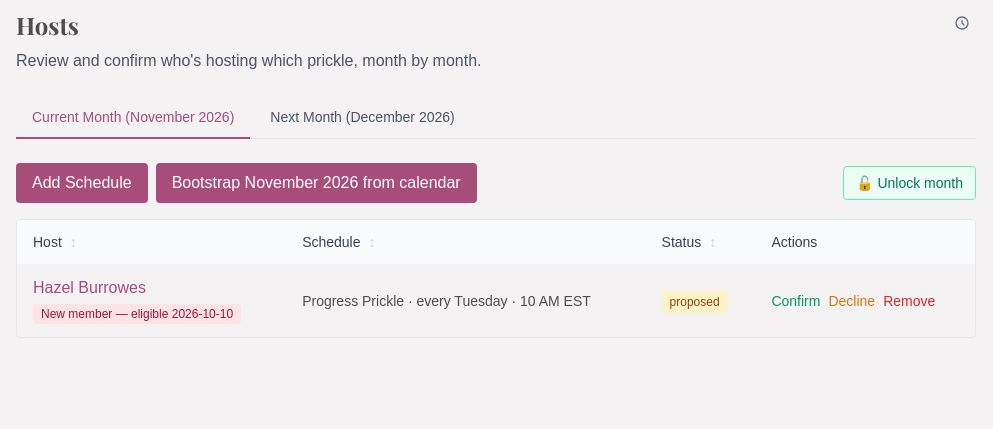
it: HostsClient bootstrap from calendar › shows the preview error and never asks to confirm when the dry run fails
expect the link "Hazel Burrowes" is shown: met, box [33,279,146,296]
Click the button "Bootstrap November 2026 from calendar" at (316, 183), box [156,163,477,203]
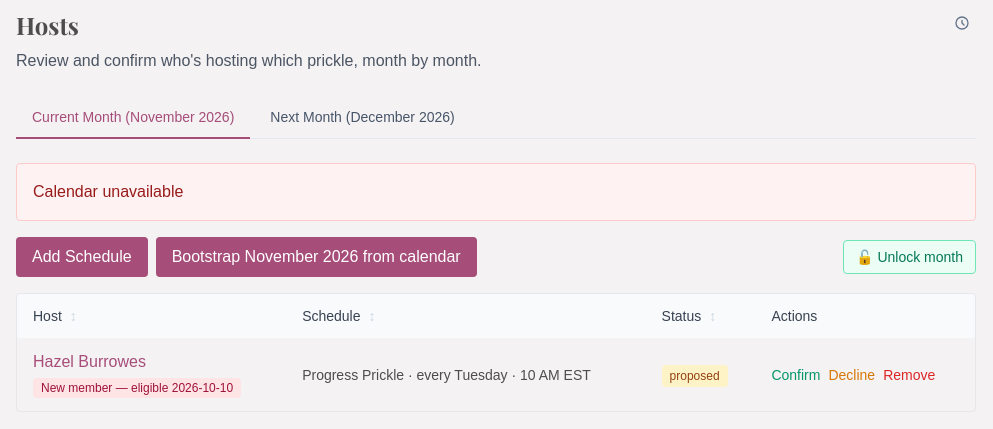
expect the text "Calendar unavailable" is shown: met, box [33,183,183,200]
